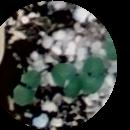Basil: (53, 64, 81, 98), (81, 56, 104, 96), (17, 71, 39, 107)
